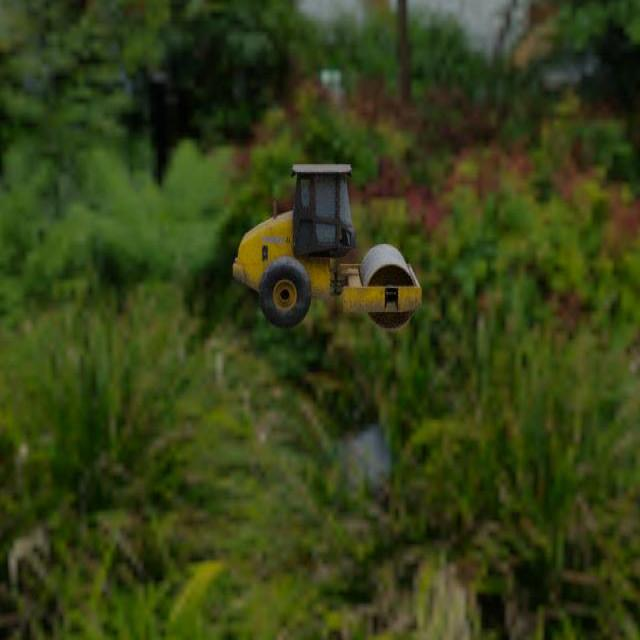Roller: (232, 163, 422, 332)
